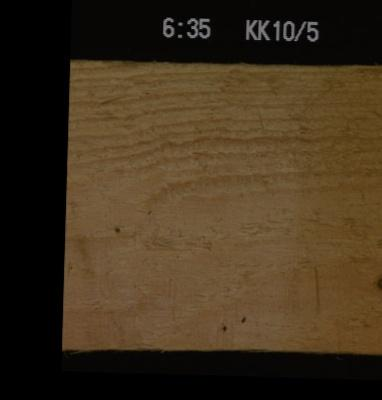small_knot: (109, 221, 122, 236), (142, 205, 157, 218), (235, 313, 248, 325), (217, 320, 229, 332)
